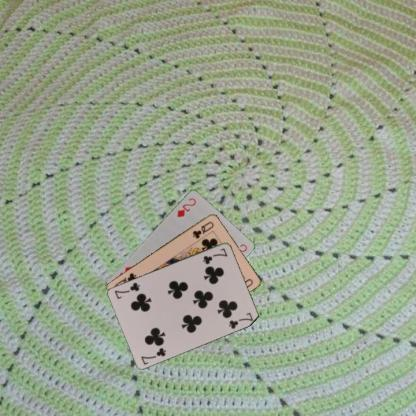2d: (175, 196, 197, 218)
7c: (139, 345, 168, 366), (200, 245, 229, 265)
Qc: (190, 218, 215, 240)
